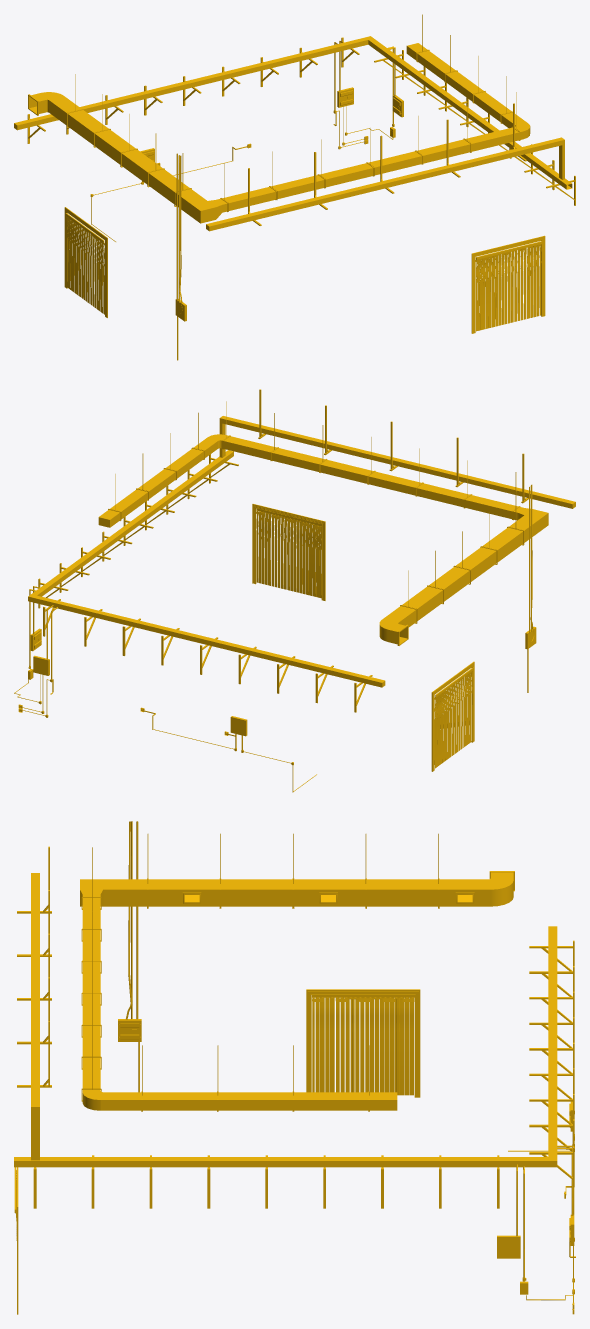
File: Factory.FBX
The picture shows the model from 3 angles, top to bottom: view 1: azimuth 30°, elevation 25°; view 2: azimuth 150°, elevation 25°; view 3: azimuth 270°, elevation 25°; orthographic projection. The views are drawn at different scales.
Visible parts, largest first — view 1: AirPipe, Pipe_Details, Curtain (×2), Pipe, Frame (×2), Cable3, Cable_board; view 2: AirPipe, Pipe_Details, Curtain (×2), Pipe, Frame (×2), Cable3, Cable_board; view 3: AirPipe, Pipe_Details, Curtain, Pipe, Frame, Cable_board, Cable3.
Boxes of the visible parts, x1=… form: AirPipe: x1=28, y1=43, x2=530, y2=223; Pipe_Details: x1=14, y1=36, x2=572, y2=231; Curtain (×2): x1=66, y1=216, x2=541, y2=331; Pipe: x1=27, y1=37, x2=575, y2=225; Frame (×2): x1=64, y1=207, x2=545, y2=333; Cable3: x1=90, y1=41, x2=395, y2=241; Cable_board: x1=176, y1=153, x2=182, y2=360; AirPipe: x1=98, y1=434, x2=548, y2=645; Pipe_Details: x1=28, y1=416, x2=575, y2=687; Curtain (×2): x1=256, y1=511, x2=472, y2=768; Pipe: x1=38, y1=389, x2=528, y2=712; Frame (×2): x1=252, y1=504, x2=474, y2=771; Cable3: x1=14, y1=586, x2=316, y2=792; Cable_board: x1=527, y1=484, x2=534, y2=692; AirPipe: x1=80, y1=871, x2=514, y2=1110; Pipe_Details: x1=14, y1=873, x2=557, y2=1167; Curtain: x1=312, y1=997, x2=413, y2=1095; Pipe: x1=17, y1=846, x2=574, y2=1208; Frame: x1=306, y1=989, x2=420, y2=1097; Cable_board: x1=126, y1=821, x2=139, y2=1092; Cable3: x1=508, y1=1111, x2=575, y2=1302.
Bounding box in the file's own units: 1246 × 671 × 1218.
